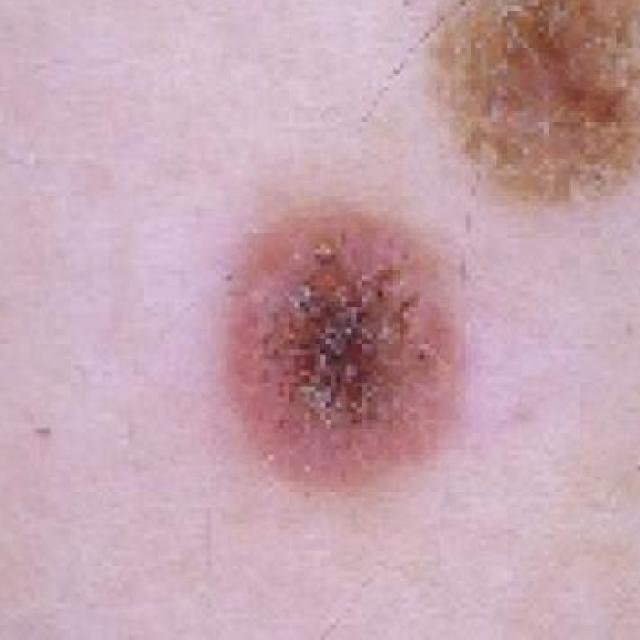BKL: (205, 0, 639, 562)
